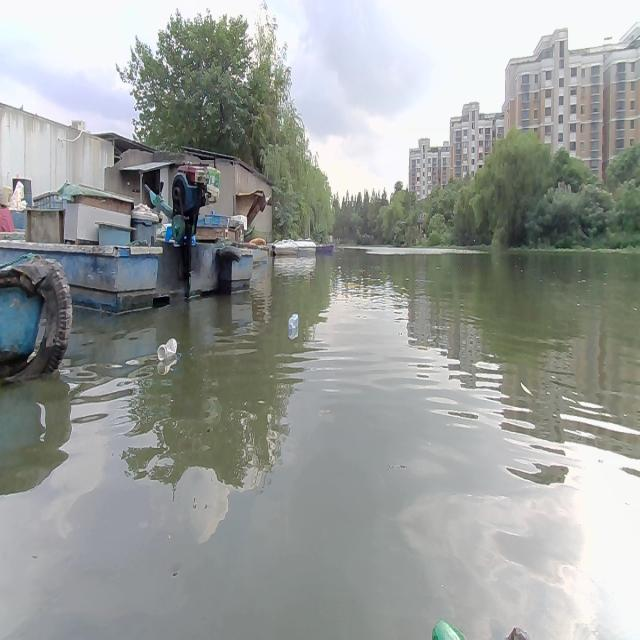bottle: (430, 614, 466, 639), (158, 333, 178, 360), (289, 310, 300, 334)
